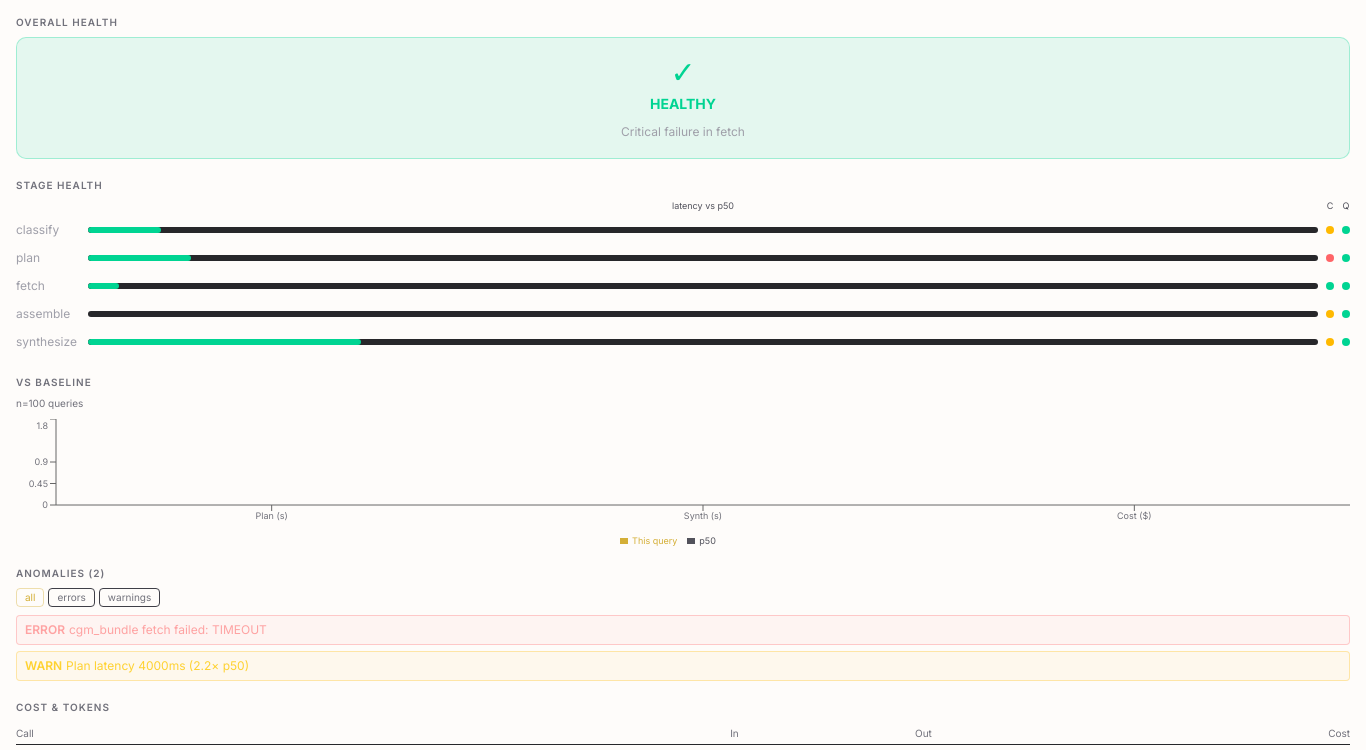
Test: HealthRail › anomaly filter "errors" hides warnings
Click the tab "errors": coordinates (72, 598) [48,588,95,607]
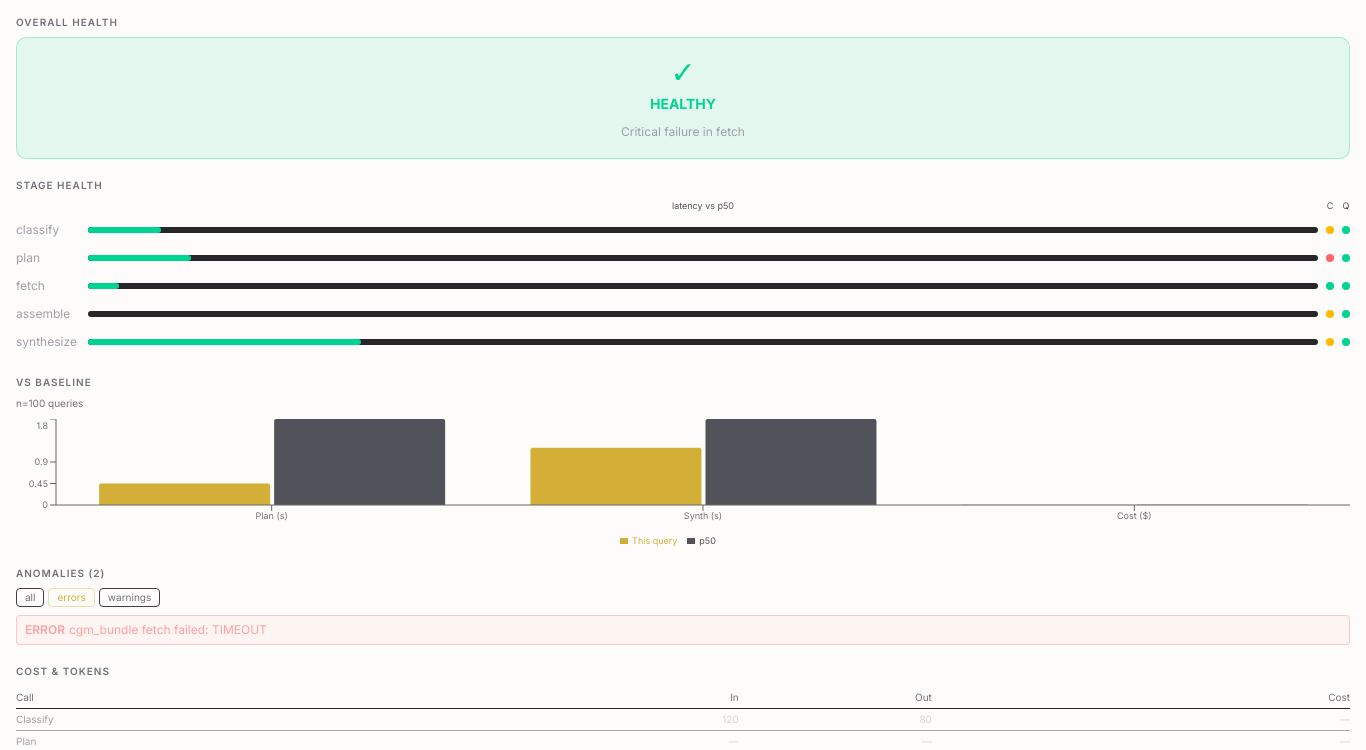
expect the button "cgm_bundle fetch failed" is shown: met, box [16,616,1350,646]
expect the button "Plan latency" is gone: met
